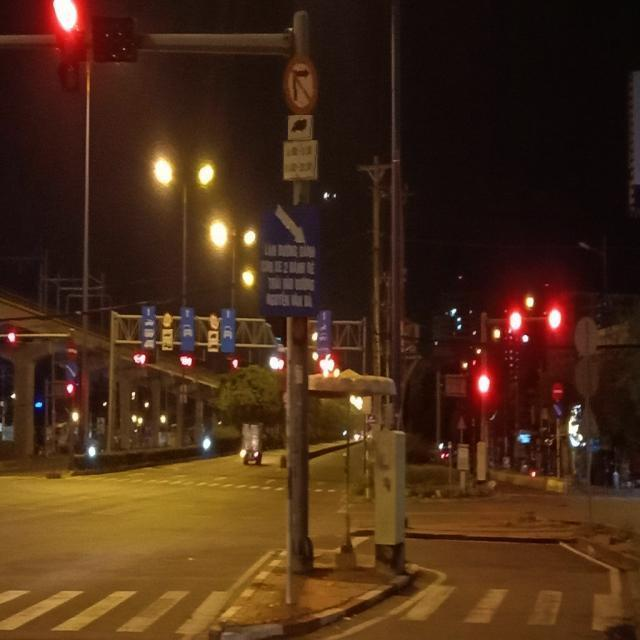102-cam-di-nguoc-chieu: (552, 383, 564, 401)
123b-cam-re-phai: (283, 54, 321, 114)
302a-huong-phai-di-vong-chuong-ngai-vat-1: (550, 402, 564, 418)
